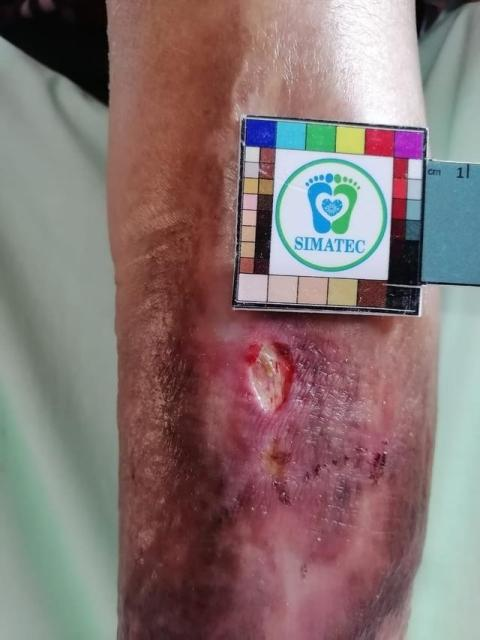wound: (247, 338, 292, 414), (258, 430, 294, 509)
